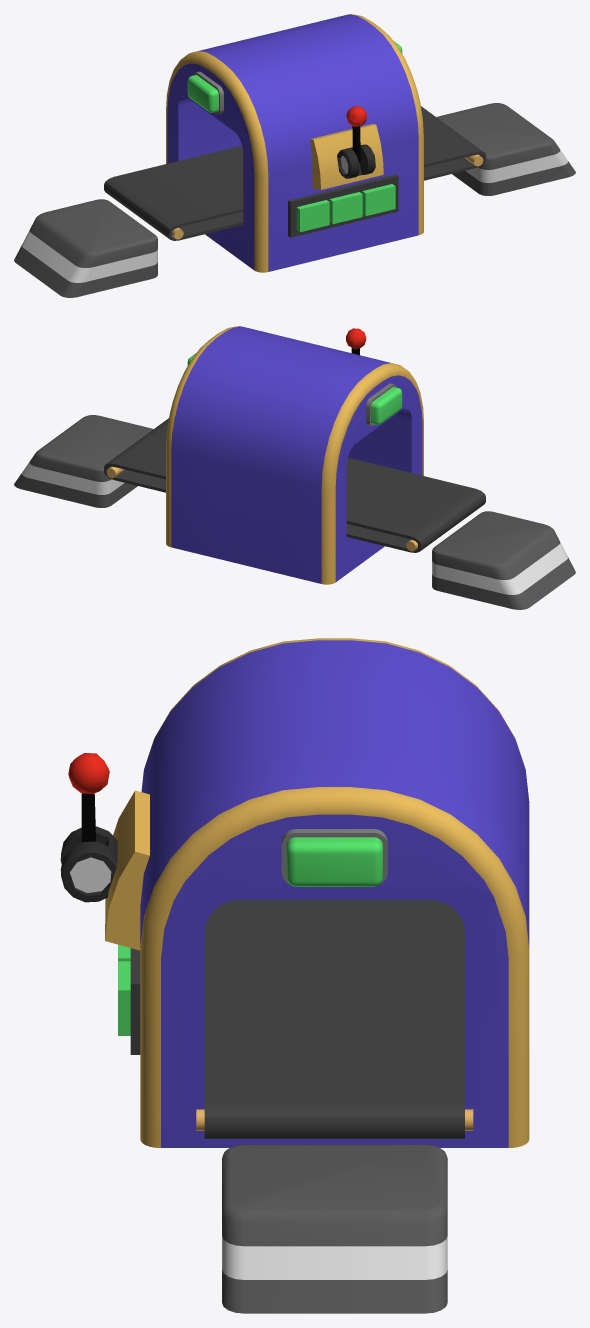
The model's file is makina7.fbx.
3 renders of one model, top to bottom at view 1: azimuth 30°, elevation 25°; view 2: azimuth 150°, elevation 25°; view 3: azimuth 270°, elevation 25°, orthographic. The views are drawn at different scales.
Parts seen in each view (by area): view 1: govde.007, stack.003, palet.006, kol; view 2: govde.007, stack.003, palet.006, kol; view 3: govde.007, palet.006, stack.003, kol.
Boxes of the visible parts, left/top/right/bottom form: govde.007: left=166, top=14, right=423, bottom=272; stack.003: left=14, top=103, right=575, bottom=297; palet.006: left=104, top=106, right=485, bottom=240; kol: left=346, top=106, right=366, bottom=162; govde.007: left=166, top=326, right=423, bottom=584; stack.003: left=14, top=415, right=575, bottom=609; palet.006: left=104, top=418, right=485, bottom=552; kol: left=346, top=328, right=366, bottom=355; govde.007: left=60, top=638, right=529, bottom=1147; palet.006: left=196, top=899, right=473, bottom=1138; stack.003: left=222, top=1144, right=447, bottom=1313; kol: left=68, top=753, right=109, bottom=842.
Size of the model in its own units: 611 by 200 by 241.
